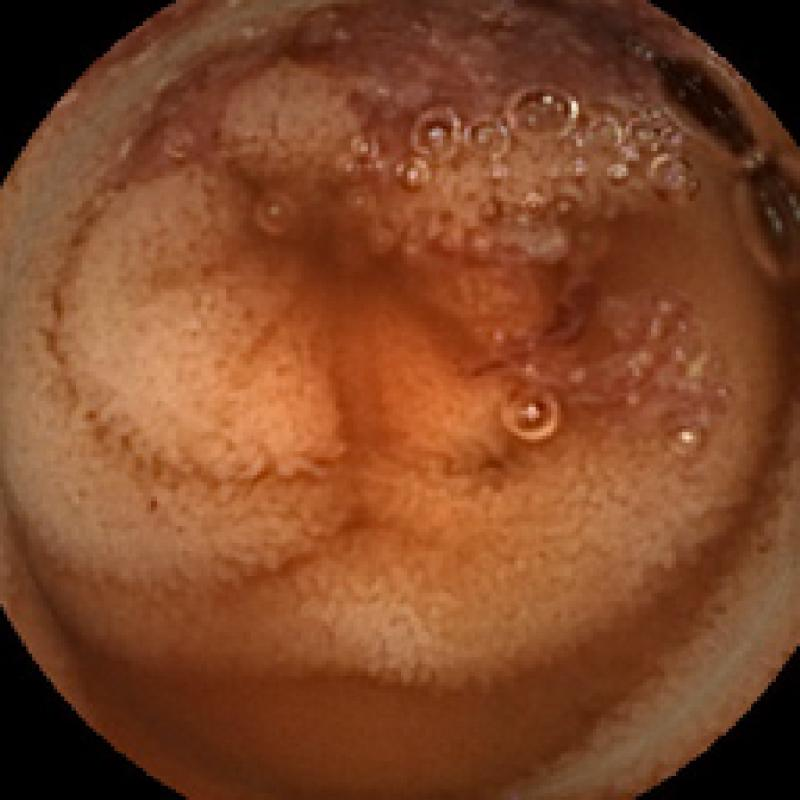bleeding: (279, 0, 789, 250)
